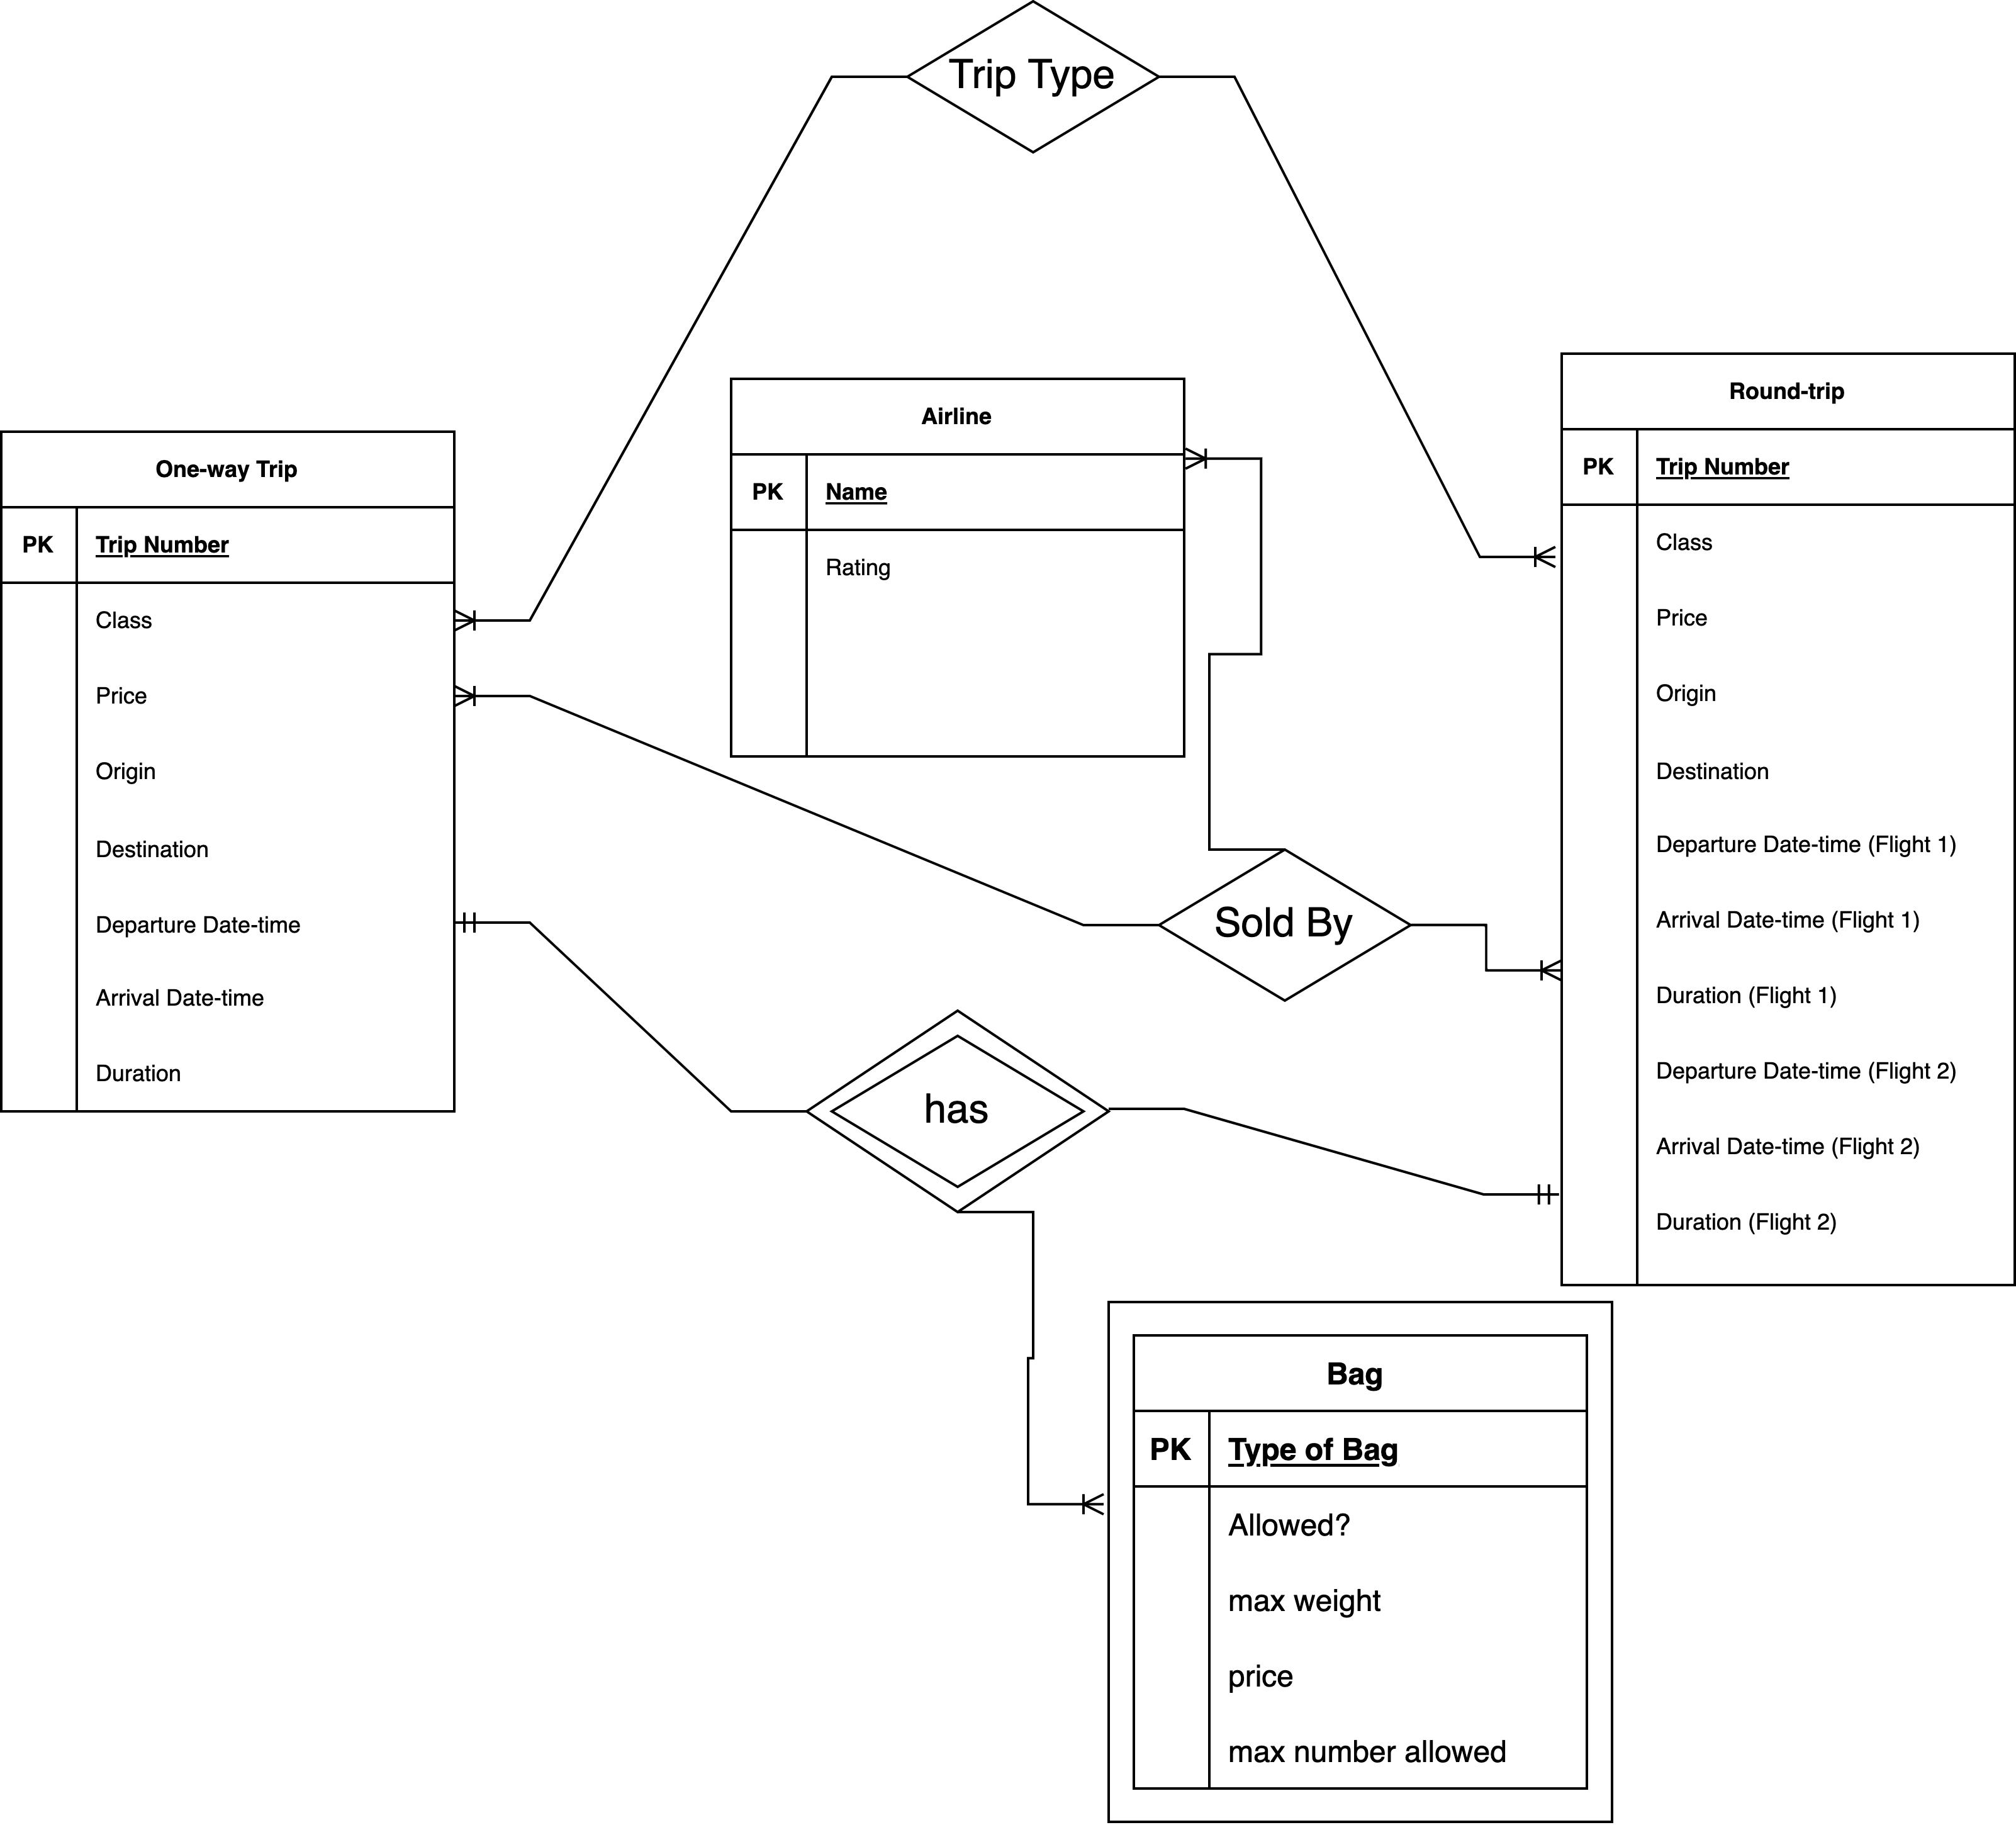entity: (1558, 348, 2016, 1289), (0, 430, 457, 1115), (729, 376, 1196, 761)
relationship: (910, 0, 1157, 158), (1164, 850, 1415, 1003)
weakentity: (1106, 1296, 1621, 1825)
weakrelationship: (815, 1006, 1115, 1214)
